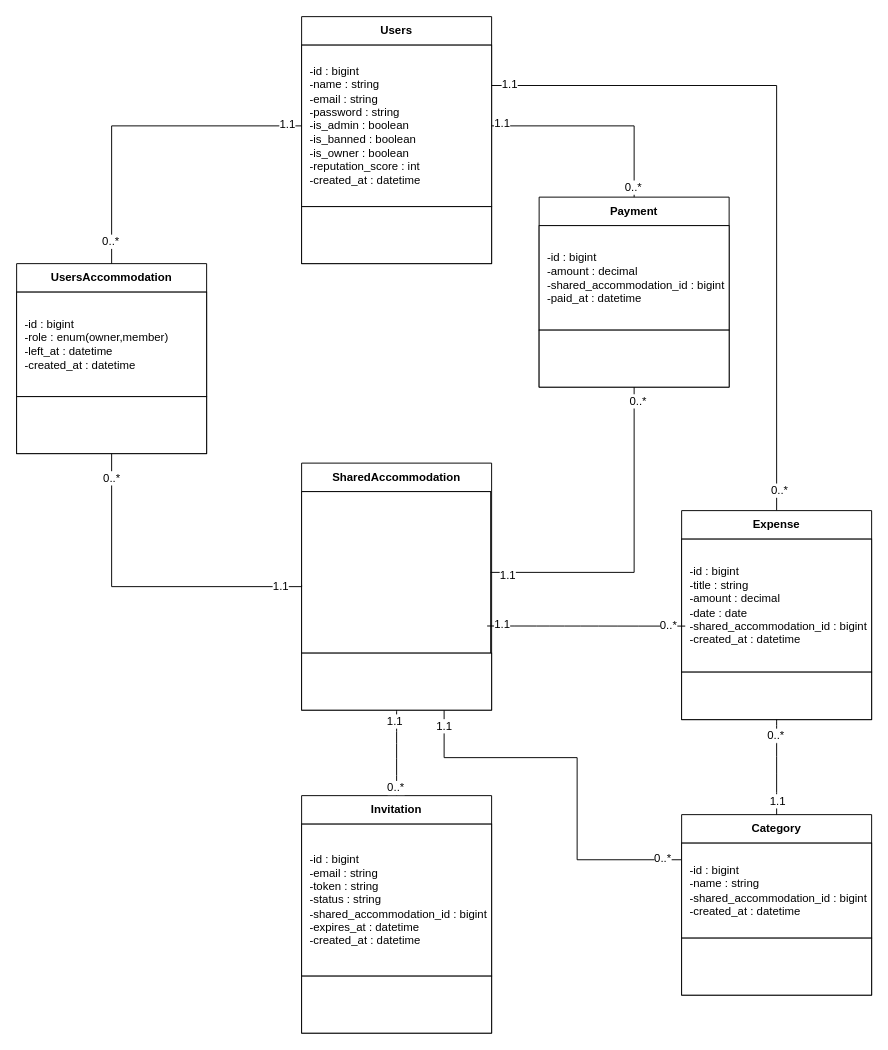
The diagram is 888 pixels wide and 1050 high, and some of its shapes have lost their labels. Here are the shapes that lost their labels. From the top down, the centre of each, then its label:
At [396,235]: "+ register() : bool".
At [396,572]: "-id : bigint -name : string -status : string -created_at : datetime".
